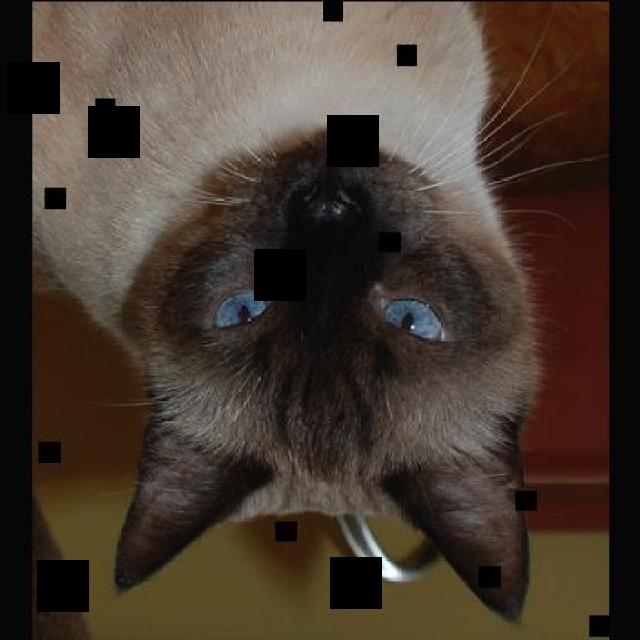unauthorized: (30, 0, 608, 626)
